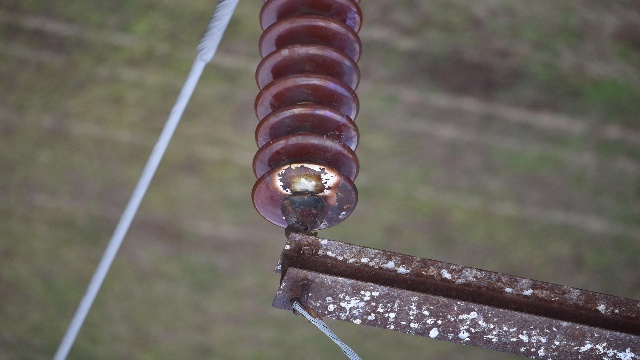insulator_unspecified: (251, 0, 366, 231)
pollution_flashover_local: (275, 161, 343, 204)
